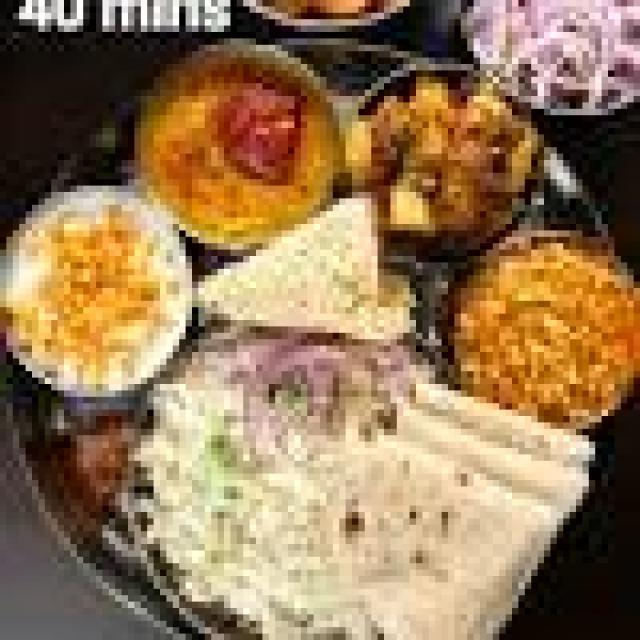papad: (197, 200, 397, 350)
roti: (442, 231, 636, 442)
veg-fry: (482, 4, 635, 126)
